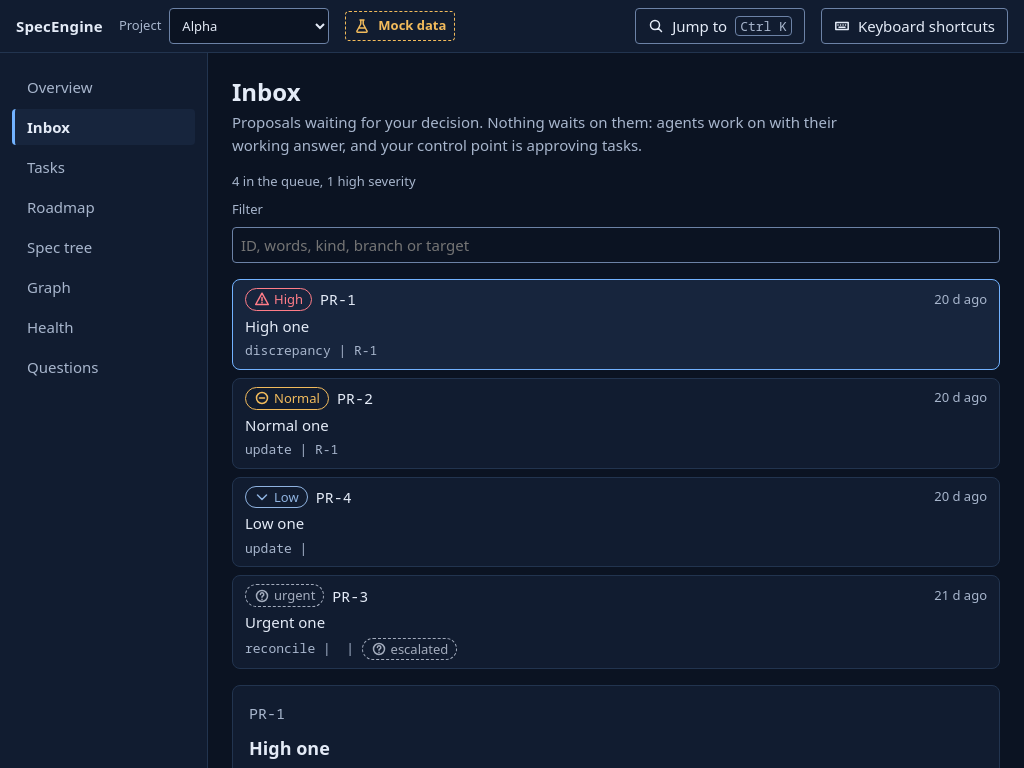
it: the Inbox on a stub client › renders the attached diff with its signs and says when none is attached
The width and height of the screenshot is (1024, 768).
Click the text "Normal one": (287, 425) x1=245 y1=415 x2=329 y2=435
(page scrolled)
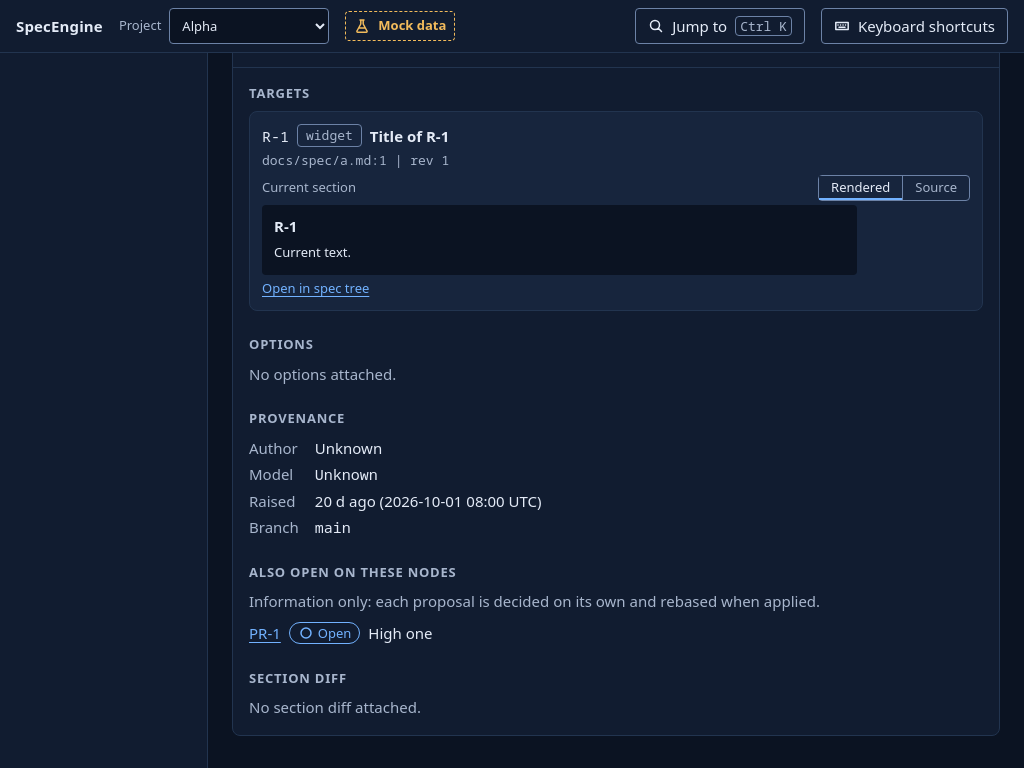
Check: the text "No section diff attached." is shown, box x1=249 y1=697 x2=421 y2=717
